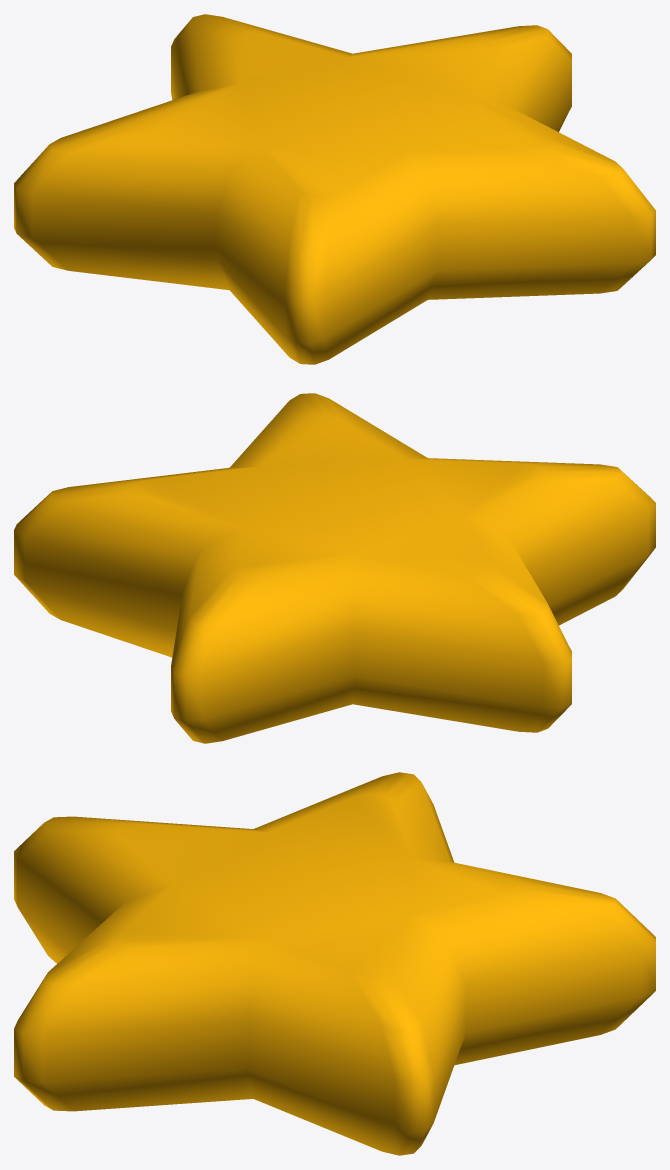
The model's file is Star.fbx.
3 renders of one model, top to bottom at view 1: azimuth 30°, elevation 25°; view 2: azimuth 150°, elevation 25°; view 3: azimuth 270°, elevation 25°, orthographic. The views are drawn at different scales.
Visible parts, largest first — view 1: star; view 2: star; view 3: star.
Part boxes in pixels (x1,y1,x2,y2): star: (14, 14, 655, 364); star: (14, 393, 655, 743); star: (14, 772, 655, 1155).
Bounding box in the file's own units: 250 × 63 × 234.
